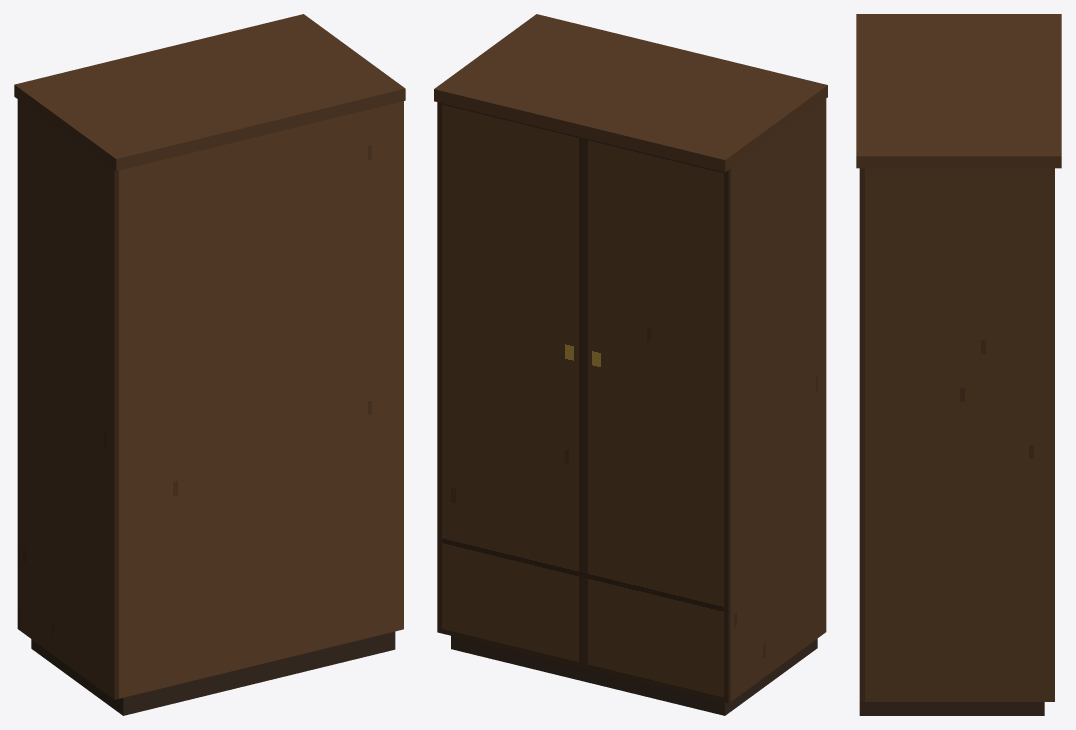
Rendered from f_wardrobe.glb.
3 views of the same model, side by side, from view 1: azimuth 30°, elevation 25°; view 2: azimuth 150°, elevation 25°; view 3: azimuth 270°, elevation 25° (orthographic).
Parts seen in each view (by area): view 1: block_body, block_crown, block_body-plinth; view 2: block_body, block_crown, block_body-plinth; view 3: block_body, block_crown, block_body-plinth.
Part boxes in pixels (x1,y1,x2,y2): block_body: [17, 99, 403, 699]; block_crown: [14, 14, 405, 171]; block_body-plinth: [31, 631, 395, 715]; block_body: [437, 99, 826, 703]; block_crown: [434, 14, 827, 172]; block_body-plinth: [451, 636, 817, 715]; block_body: [859, 168, 1054, 701]; block_crown: [856, 14, 1061, 168]; block_body-plinth: [859, 702, 1044, 715].
Bounding box in the file's own units: 1 × 1.85 × 0.61.
Materials: 1 (1 with a texture image).
